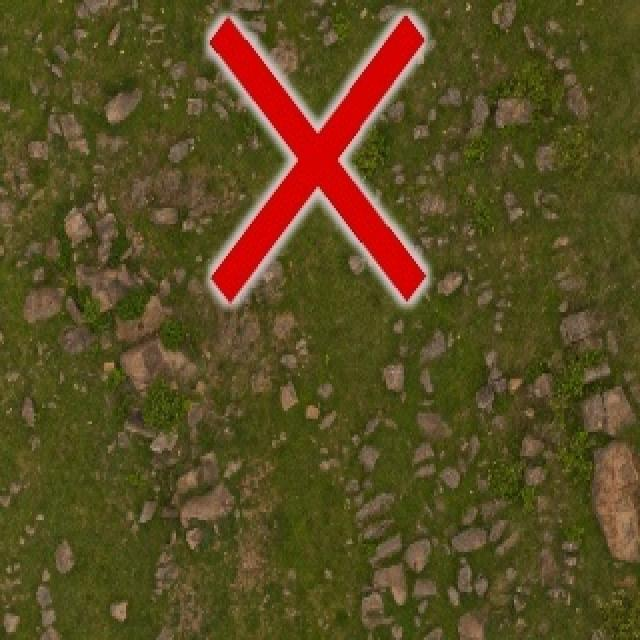x_marker: (209, 15, 425, 300)
